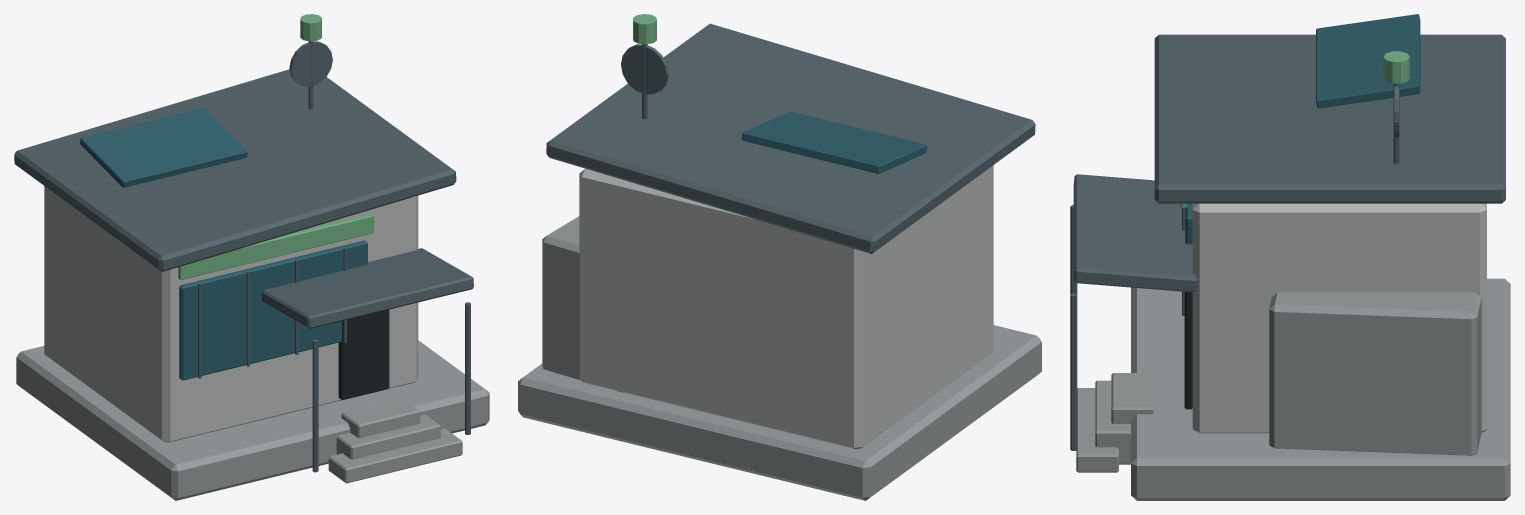
Rendered from edificio-house-e5-Jy4s9cTy.glb.
3 views of the same model, side by side, from view 1: azimuth 30°, elevation 25°; view 2: azimuth 150°, elevation 25°; view 3: azimuth 270°, elevation 25° (orthographic). The views are drawn at different scales.
Visible parts, largest first — view 1: casa_e5_detalles, casa_e5_envolvente, casa_e5_team_color; view 2: casa_e5_envolvente, casa_e5_detalles, casa_e5_team_color; view 3: casa_e5_envolvente, casa_e5_detalles, casa_e5_team_color.
Part boxes in pixels (x1,y1,x2,y2): casa_e5_detalles: (14,41,473,472); casa_e5_envolvente: (16,186,489,500); casa_e5_team_color: (178,14,373,279); casa_e5_envolvente: (518,165,1041,500); casa_e5_detalles: (546,23,1035,253); casa_e5_team_color: (633,14,656,44); casa_e5_envolvente: (1076,203,1510,500); casa_e5_detalles: (1070,14,1505,450); casa_e5_team_color: (1180,51,1409,207).
Bounding box in the file's own units: 46.5 × 47.25 × 46.38.
